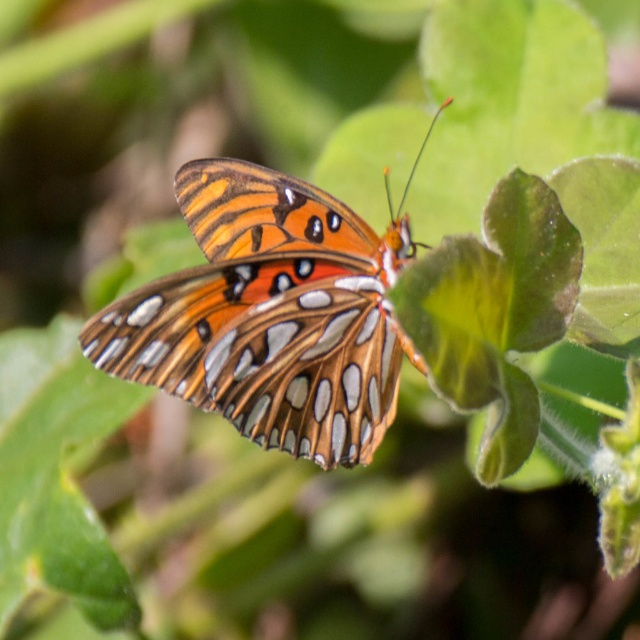Butterfly: (76, 95, 454, 472)
